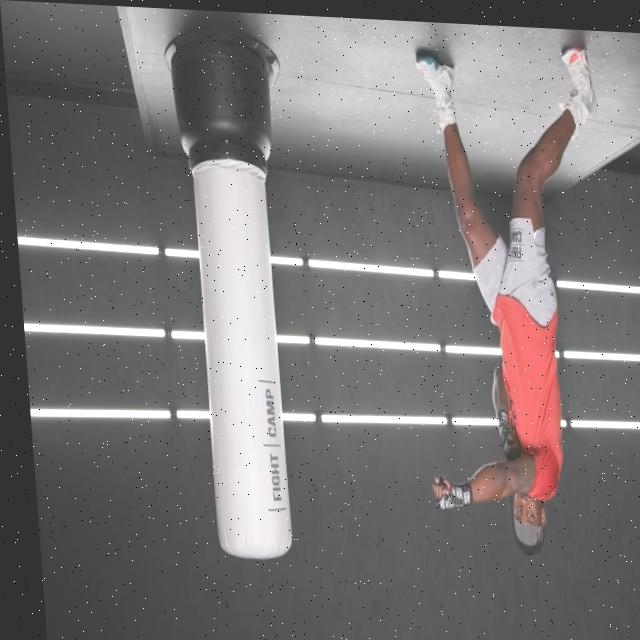Cross: (387, 27, 625, 522)
